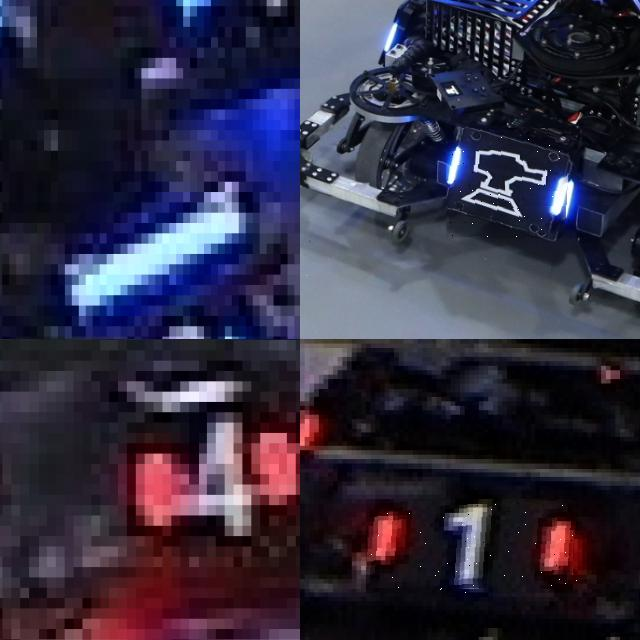Bs: (447, 128, 572, 238)
R1: (366, 499, 578, 593)
R4: (126, 412, 300, 546)
